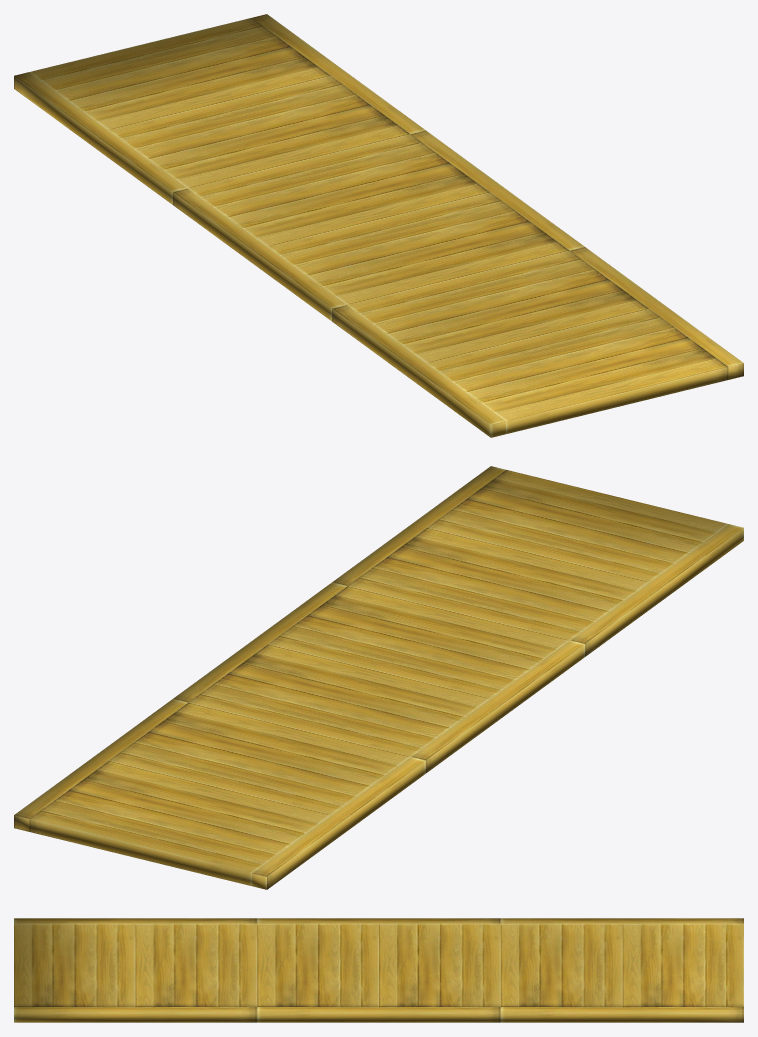
The model's file is HTOWN01_MILLPLATFORM01.fbx.
3 views of the same model, one above another, from view 1: azimuth 30°, elevation 25°; view 2: azimuth 150°, elevation 25°; view 3: azimuth 270°, elevation 25° (orthographic). The views are drawn at different scales.
Parts seen in each view (by area): view 1: HTOWN01_MILLPLATFORM01; view 2: HTOWN01_MILLPLATFORM01; view 3: HTOWN01_MILLPLATFORM01.
Boxes of the visible parts, left/top/right/bottom form: HTOWN01_MILLPLATFORM01: left=14, top=14, right=743, bottom=437; HTOWN01_MILLPLATFORM01: left=14, top=466, right=743, bottom=889; HTOWN01_MILLPLATFORM01: left=14, top=918, right=743, bottom=1022.
Size of the model in its own units: 38537 by 1897 by 125820.
Materials: 1 (1 with a texture image).
